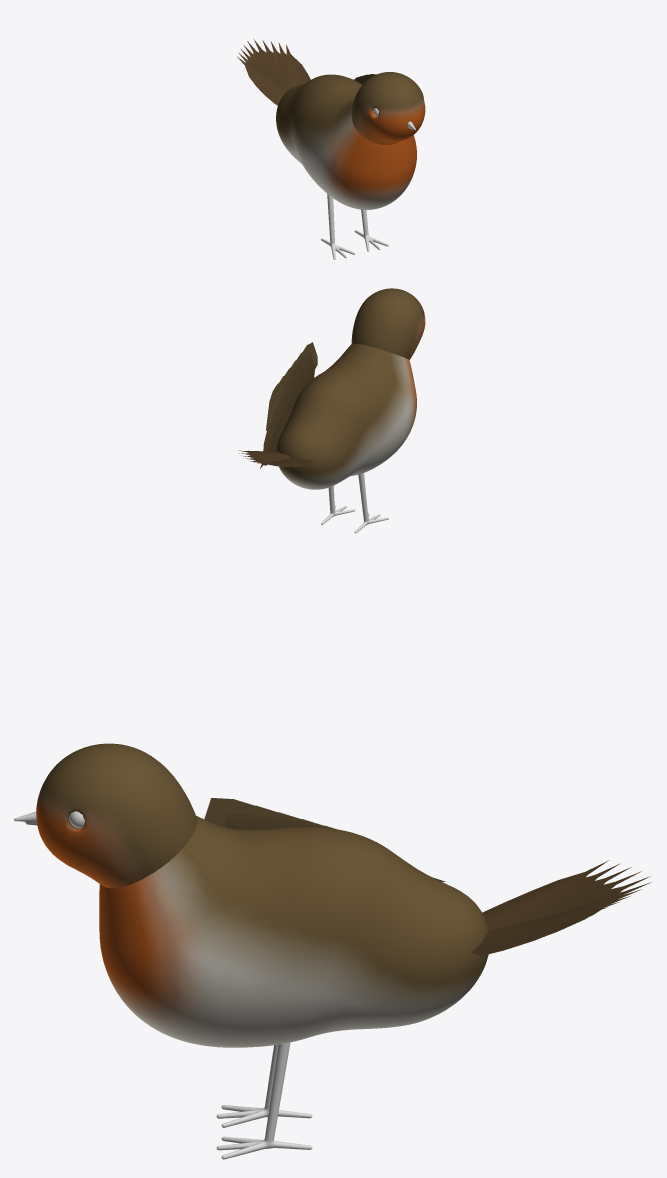
The model's file is robin.glb.
The picture shows the model from 3 angles, top to bottom: view 1: azimuth 30°, elevation 25°; view 2: azimuth 150°, elevation 25°; view 3: azimuth 270°, elevation 25°; orthographic projection. The views are drawn at different scales.
Parts seen in each view (by area): view 1: bird_body, bird_head, bird_tail, bird_legs; view 2: bird_body, bird_head, bird_wingfold, bird_legs, bird_tail; view 3: bird_body, bird_head, bird_tail, bird_legs, bird_wingfold.
Boxes of the visible parts, x1,y1,x2,y2 form: bird_body: (276,74,416,209); bird_head: (351,72,425,144); bird_tail: (237,39,310,105); bird_legs: (321,194,388,259); bird_body: (276,343,416,489); bird_head: (351,288,425,359); bird_wingfold: (260,342,317,468); bird_legs: (321,473,388,533); bird_tail: (238,450,314,466); bird_body: (99,815,488,1047); bird_head: (36,743,197,888); bird_tail: (470,860,651,956); bird_legs: (216,1042,312,1159); bird_wingfold: (204,798,445,881).
Bounding box in the file's own units: 0.3117 × 0.0929 × 0.1399.
